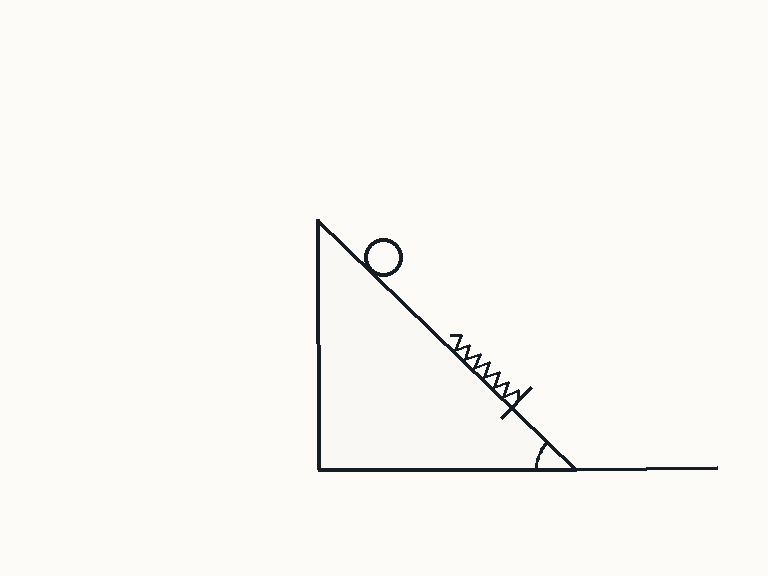ball: (362, 236, 404, 278)
ramp: (316, 218, 578, 471)
spring: (449, 333, 520, 402)
